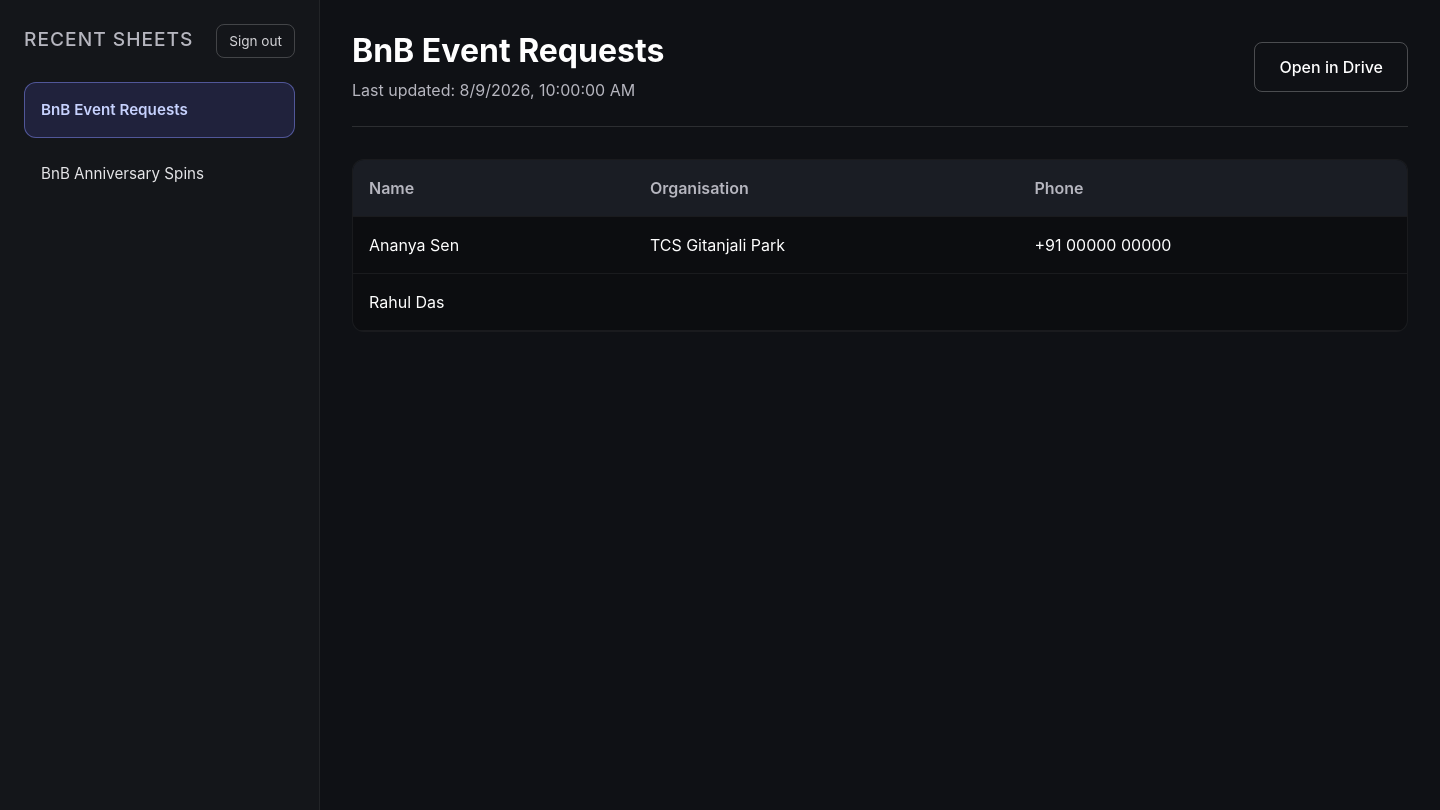
Test: the dashboard › switches sheets when a sidebar tab is chosen
This screenshot has width=1440, height=810.
Check: the heading "BnB Event Requests" is shown, box [352, 32, 664, 70]
Click the button "BnB Anniversary Spins": (160, 175) [24, 146, 295, 203]
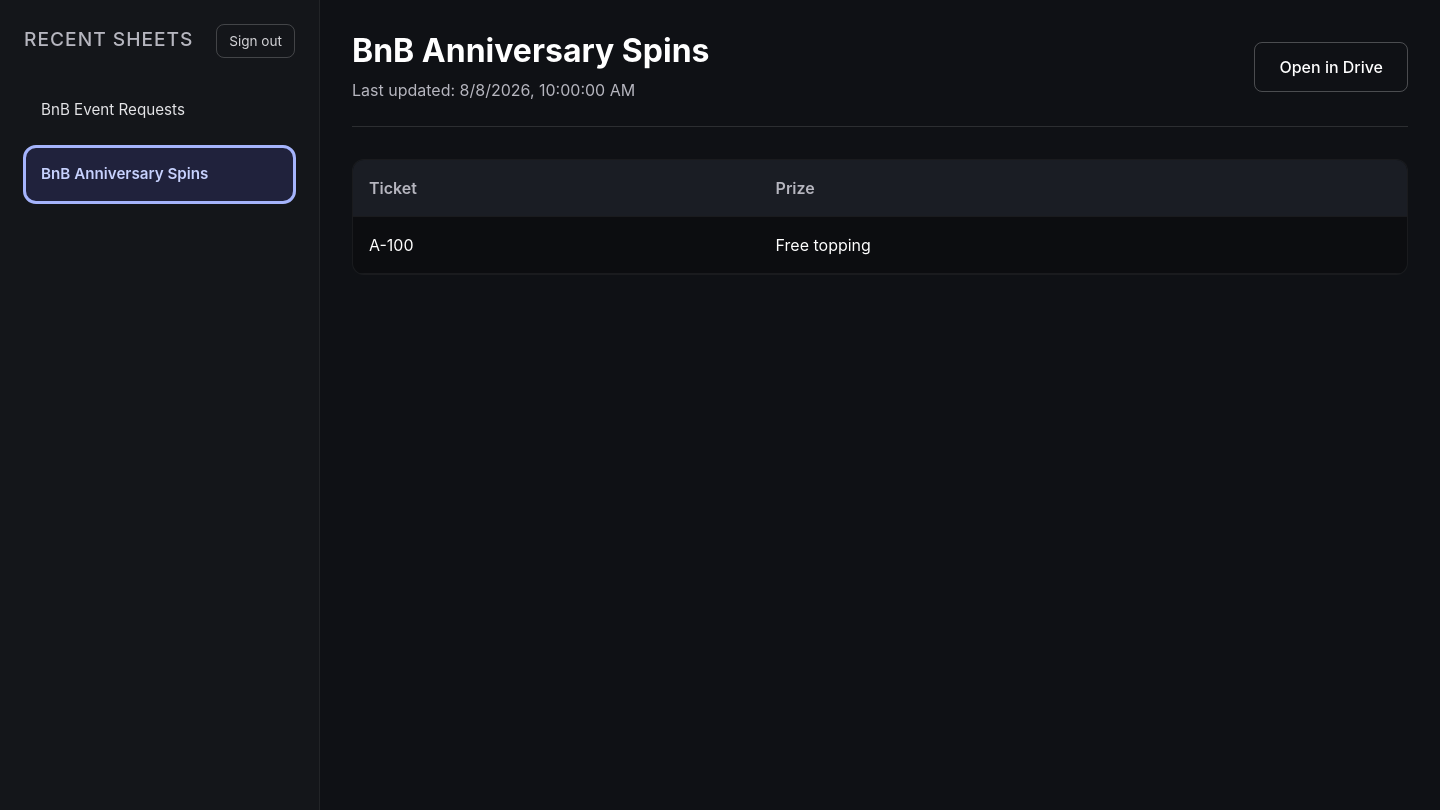
Check: the heading "BnB Anniversary Spins" is shown, box [352, 32, 710, 70]
Check: the text "Ananya Sen" is gone
